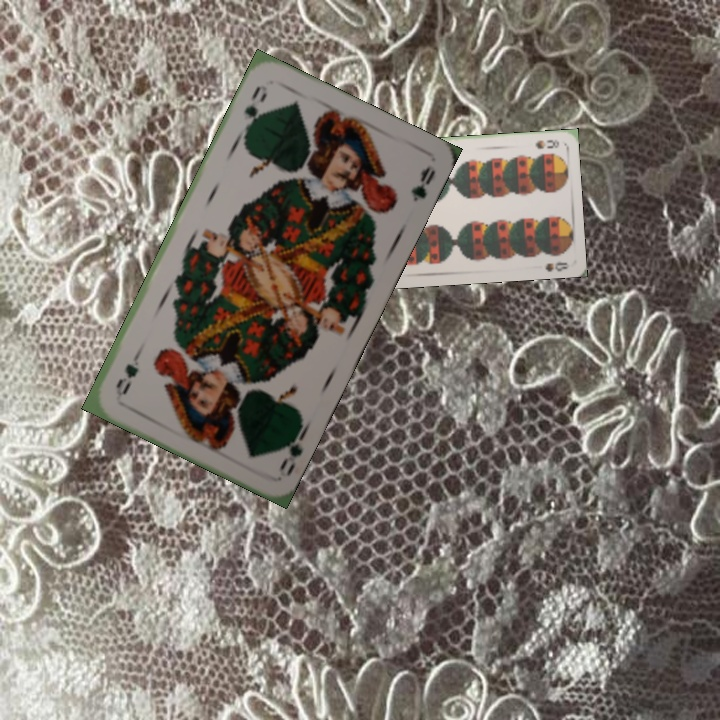GO: (274, 420, 311, 479), (240, 82, 264, 137)
S8: (531, 136, 562, 151)
